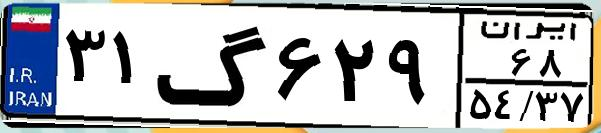1: (110, 28, 156, 98)
2: (330, 28, 385, 110)
3: (57, 26, 110, 100), (535, 70, 560, 125)
4: (495, 70, 520, 125)
5: (470, 70, 495, 125)
6: (270, 28, 330, 110), (508, 27, 537, 80)
7: (560, 70, 590, 125)
8: (537, 27, 568, 80)
9: (385, 28, 445, 110)
گ: (156, 12, 270, 120)
